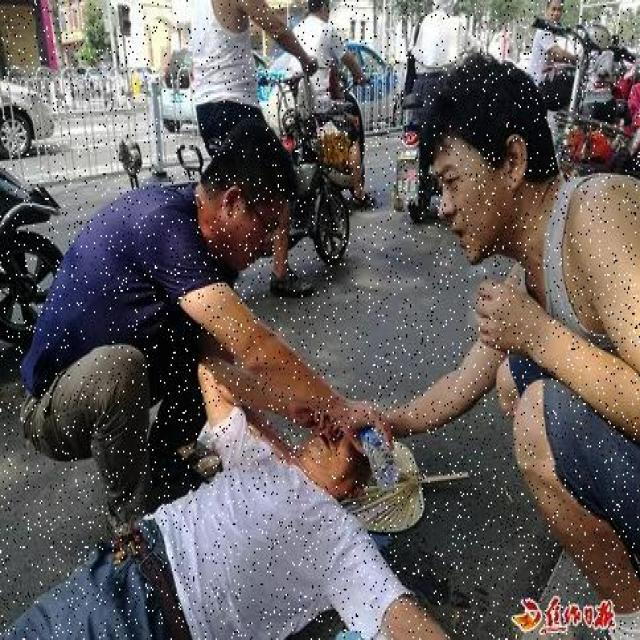fall: (0, 408, 407, 638)
